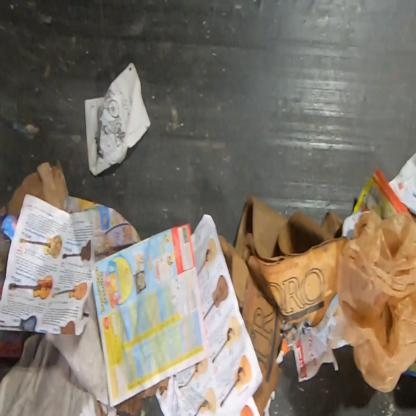cardboard: (216, 193, 349, 415), (0, 156, 70, 220), (113, 375, 170, 415), (0, 228, 12, 304)
soft_plastic: (337, 209, 415, 394), (0, 283, 109, 415)
